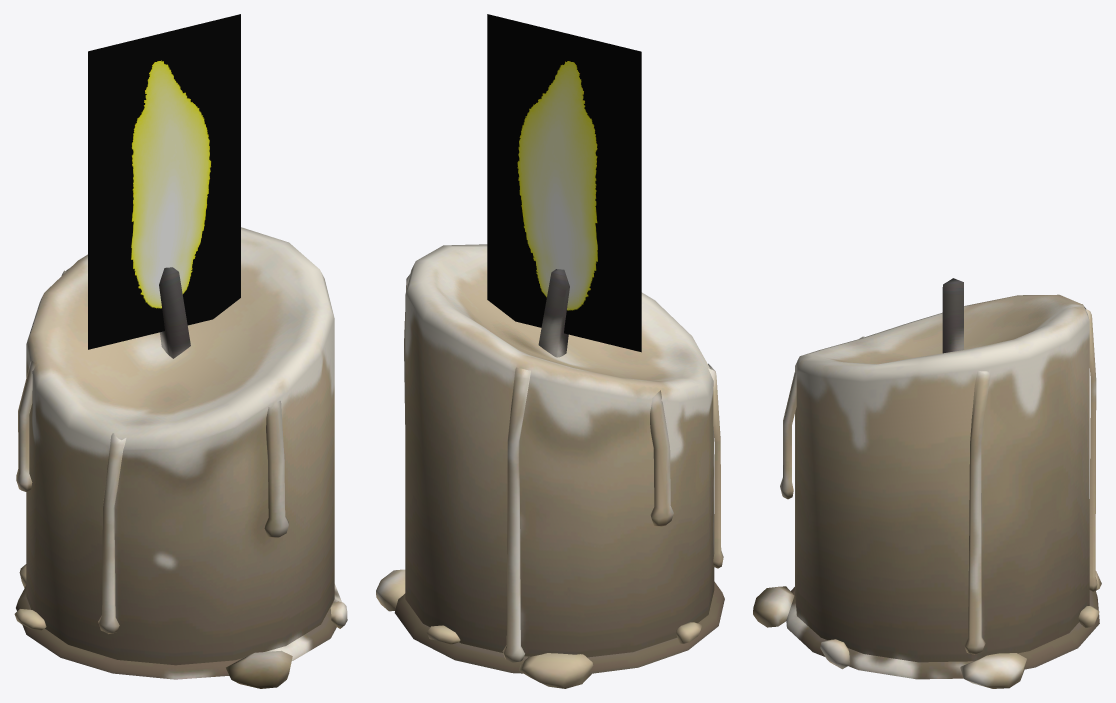
The model's file is SM_Candle_01.gltf.
3 renders of one model, left to right at view 1: azimuth 30°, elevation 25°; view 2: azimuth 150°, elevation 25°; view 3: azimuth 270°, elevation 25°, orthographic. The views are drawn at different scales.
Parts seen in each view (by area): view 1: SM_Candle_01; view 2: SM_Candle_01; view 3: SM_Candle_01.
Boxes of the visible parts, left/top/right/bottom form: SM_Candle_01: left=14, top=14, right=347, bottom=688; SM_Candle_01: left=376, top=14, right=724, bottom=688; SM_Candle_01: left=753, top=278, right=1101, bottom=688.
Bounding box in the file's own units: 0.076 × 0.1398 × 0.0781.
Materials: 2 (2 with a texture image).
